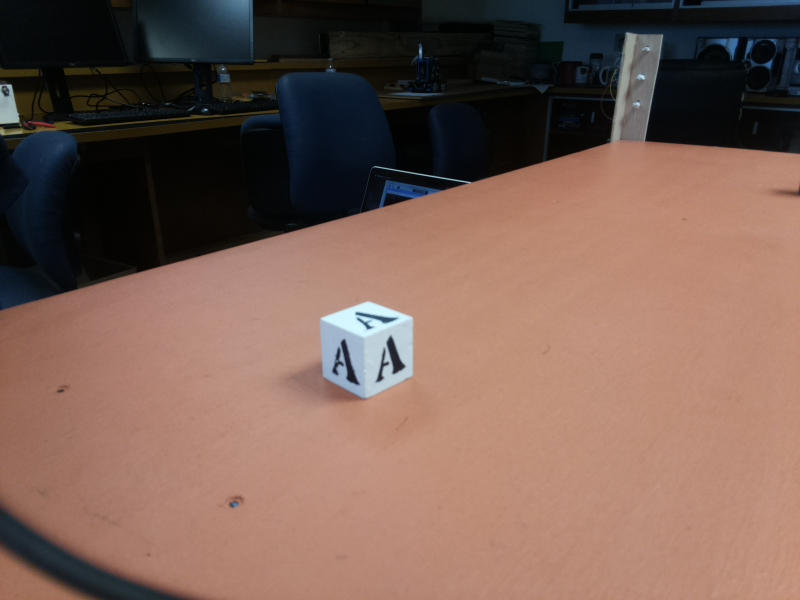blockA: (319, 298, 421, 399)
corner: (609, 33, 668, 143)
